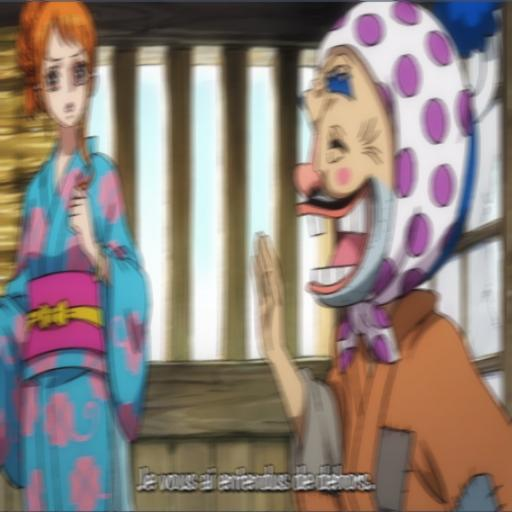Nami: (0, 0, 153, 512)
